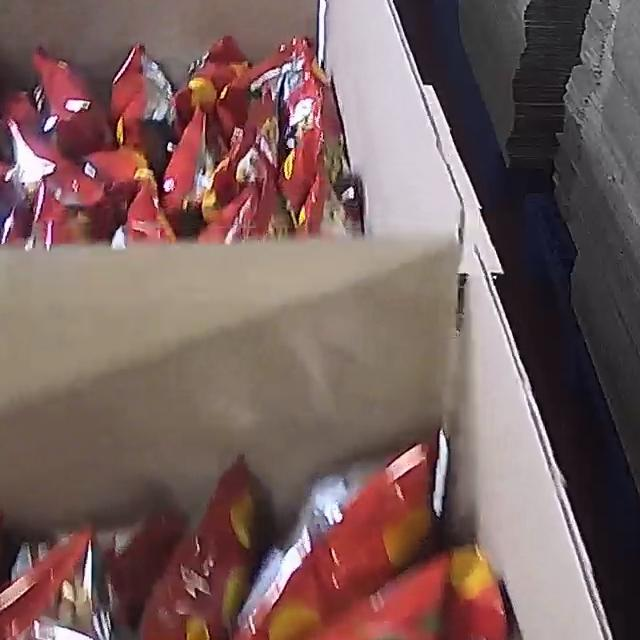masala: (0, 431, 513, 640), (0, 29, 357, 250)
